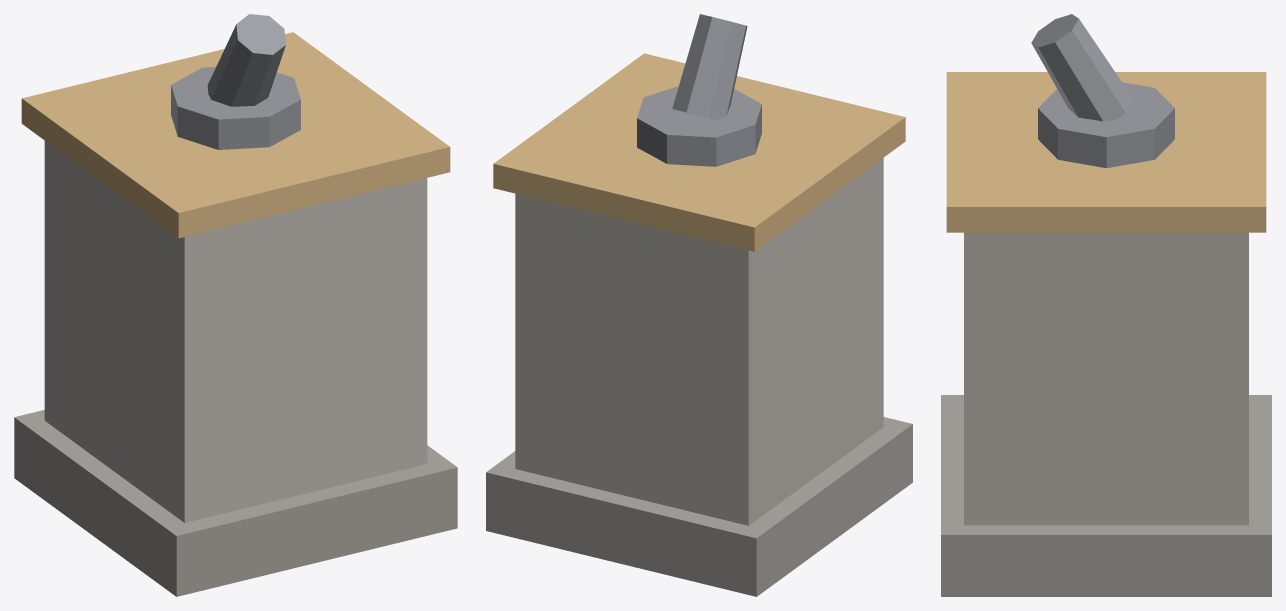
The picture shows the model from 3 angles, left to right: view 1: azimuth 30°, elevation 25°; view 2: azimuth 150°, elevation 25°; view 3: azimuth 270°, elevation 25°; orthographic projection. The views are drawn at different scales.
Parts seen in each view (by area): view 1: body; view 2: body; view 3: body.
Boxes of the visible parts, x1=… form: body: x1=14, y1=14, x2=457, y2=596; body: x1=486, y1=14, x2=912, y2=596; body: x1=941, y1=14, x2=1271, y2=596.
Bounding box in the file's own units: 5.8 × 9.84 × 5.8.
